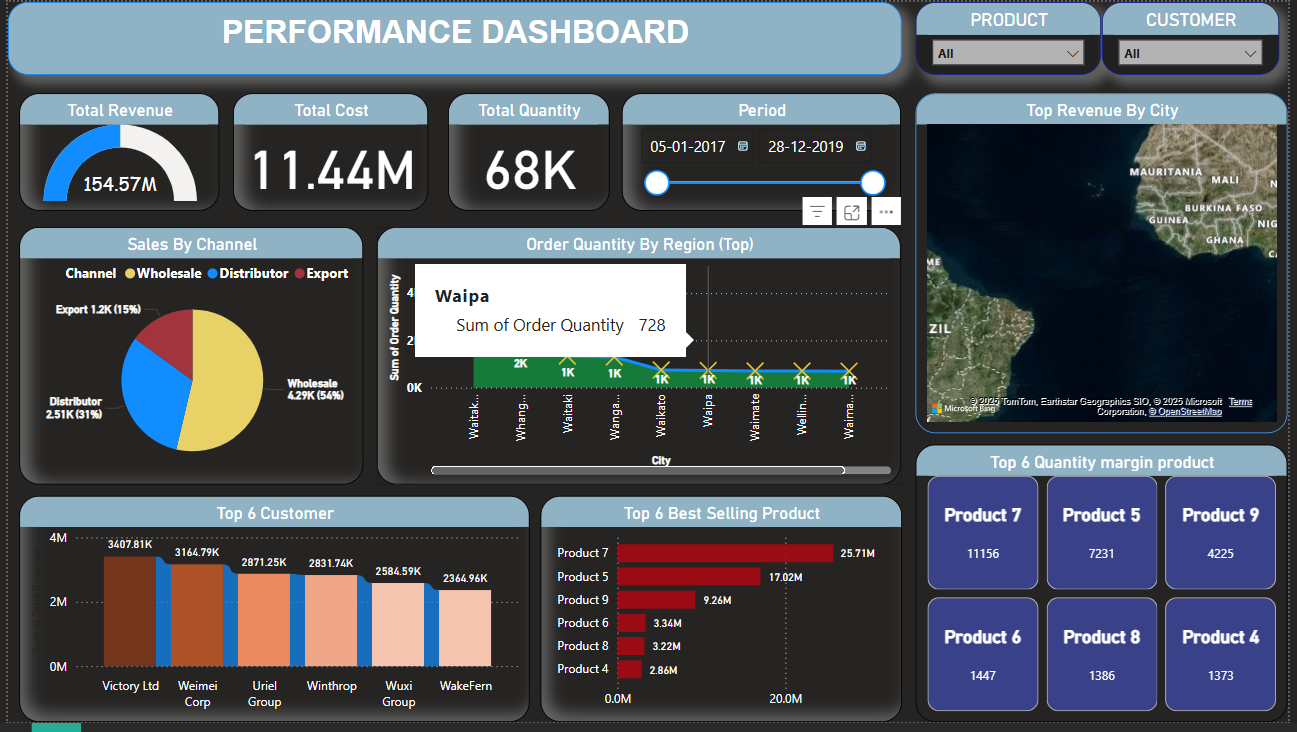

What the dashboard file says about the page in this screenshot:
{"tool":"powerbi","page":{"name":"Page 1","canvas":[1280,720],"ordinal":0},"visuals":[{"type":"textbox","box":[0,0,893.3,73],"z":0},{"type":"slicer","title":"PRODUCT","fields":{"Values":["Products_Data.Product Name"]},"box":[907.7,0,185.7,72.4],"z":1000},{"type":"slicer","title":"CUSTOMER","fields":{"Values":["Customer_Data.Customer Names"]},"box":[1093.4,0,177.3,72.4],"z":2000},{"type":"gauge","title":"Total Revenue","fields":{"Y":["Sum(Sales_Data.Total Revenue)"]},"box":[10.9,91.5,200.1,117.9],"z":4000},{"type":"card","title":"Total Cost","fields":{"Values":["Sum(Sales_Data.Total Unit Cost)"]},"box":[224.9,91.5,195.4,117.9],"z":5000},{"type":"card","title":"Total Quantity","fields":{"Values":["Sum(Sales_Data.Order Quantity)"]},"box":[440.5,91.5,161.3,117.9],"z":6000},{"type":"slicer","title":"Period","fields":{"Values":["Sales_Data.Ship Date"]},"box":[614.2,91.5,279.2,117.9],"z":7000},{"type":"pieChart","title":"Sales By Channel","fields":{"Category":["Sales_Data.Channel"],"Y":["CountNonNull(Sales_Data.Channel)"]},"box":[10.9,224.9,344.3,257.4],"z":8000},{"type":"stackedAreaChart","title":"Order Quantity By Region (Top)","fields":{"Y":["Sum(Sales_Data.Order Quantity)"],"Category":["Regions_Table.City"]},"box":[369.1,224.9,524.2,257.4],"z":9000},{"type":"columnChart","title":"Top 6 Customer ","fields":{"Category":["Customer_Data.Customer Names"],"Y":["Sum(Sales_Data.Total Revenue)"]},"box":[10.9,493.2,510.2,226.4],"z":10000},{"type":"clusteredBarChart","title":"Top 6 Best Selling Product","fields":{"Category":["Products_Data.Product Name"],"Y":["Sum(Sales_Data.Total Revenue)"]},"box":[532,493.2,361.4,226.4],"z":11000},{"type":"map","title":"Top Revenue By City","fields":{"Category":["Regions_Table.City"],"Size":["Sum(Sales_Data.Total Revenue)"]},"box":[907.3,91.5,372.2,339.6],"z":12000},{"type":"advancedSlicerVisual","title":"Top 6 Quantity margin product","fields":{"Values":["Products_Data.Product Name"]},"box":[907.3,442,372.2,277.6],"z":13000}]}

Visuals, with their boxes in screenshot pixels (x1, y1, x2, y2), scaled from the page's 1280x720 canvas onto the 1297x732 screenshot:
textbox: [0, 0, 905, 74]
"PRODUCT" slicer: [920, 0, 1108, 74]
"CUSTOMER" slicer: [1108, 0, 1288, 74]
"Total Revenue" gauge: [11, 93, 214, 213]
"Total Cost" card: [228, 93, 426, 213]
"Total Quantity" card: [446, 93, 610, 213]
"Period" slicer: [622, 93, 905, 213]
"Sales By Channel" pieChart: [11, 229, 360, 490]
"Order Quantity By Region (Top)" stackedAreaChart: [374, 229, 905, 490]
"Top 6 Customer " columnChart: [11, 501, 528, 731]
"Top 6 Best Selling Product" clusteredBarChart: [539, 501, 905, 731]
"Top Revenue By City" map: [919, 93, 1296, 438]
"Top 6 Quantity margin product" advancedSlicerVisual: [919, 449, 1296, 731]
